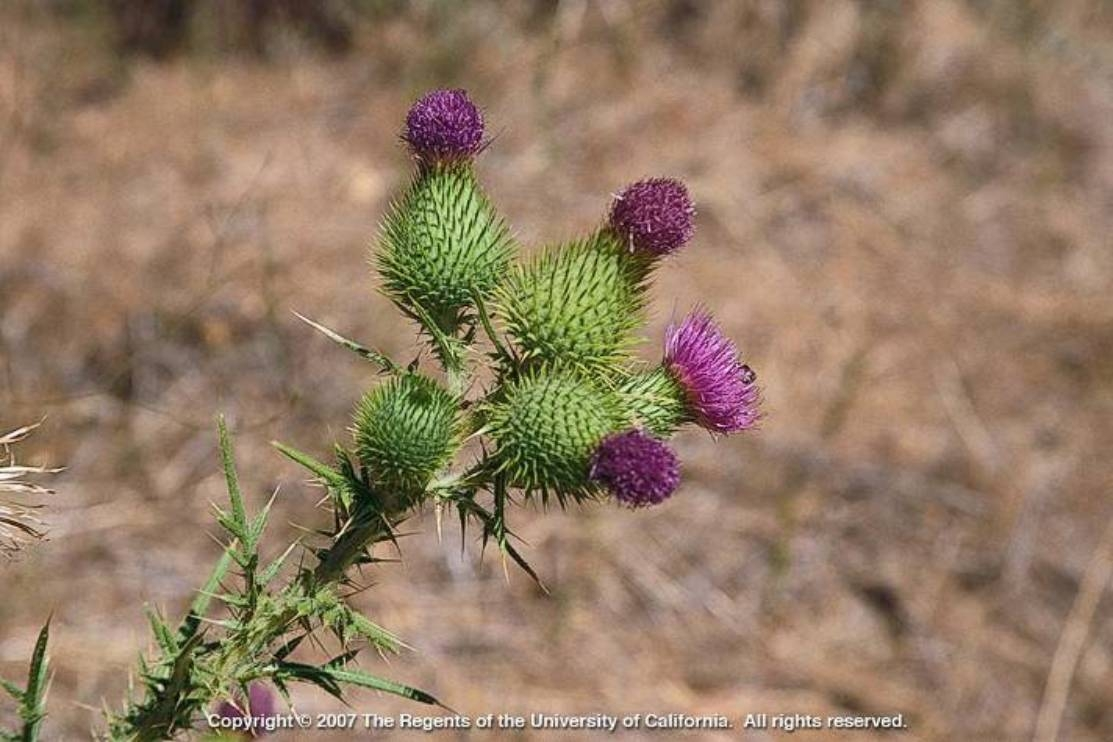thistle: (365, 88, 525, 288), (522, 171, 679, 355), (496, 360, 682, 514), (625, 307, 773, 444)
